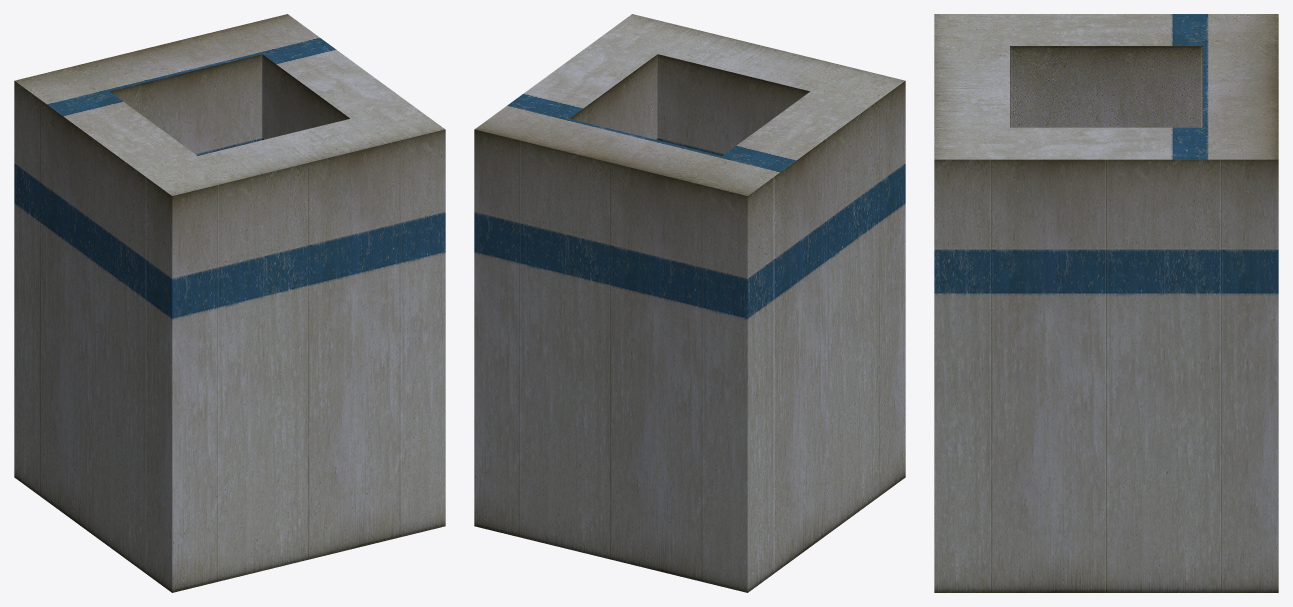
The model's file is climber-section-1.fbx.
3 views of the same model, side by side, from view 1: azimuth 30°, elevation 25°; view 2: azimuth 150°, elevation 25°; view 3: azimuth 270°, elevation 25° (orthographic). The views are drawn at different scales.
Parts seen in each view (by area): view 1: climber-section; view 2: climber-section; view 3: climber-section.
Part boxes in pixels (x1,y1,x2,y2): climber-section: (14,14,445,592); climber-section: (474,14,905,592); climber-section: (934,14,1278,592).
Size of the model in its own units: 28.62 by 39.71 by 28.62.
Materials: 1 (1 with a texture image).
